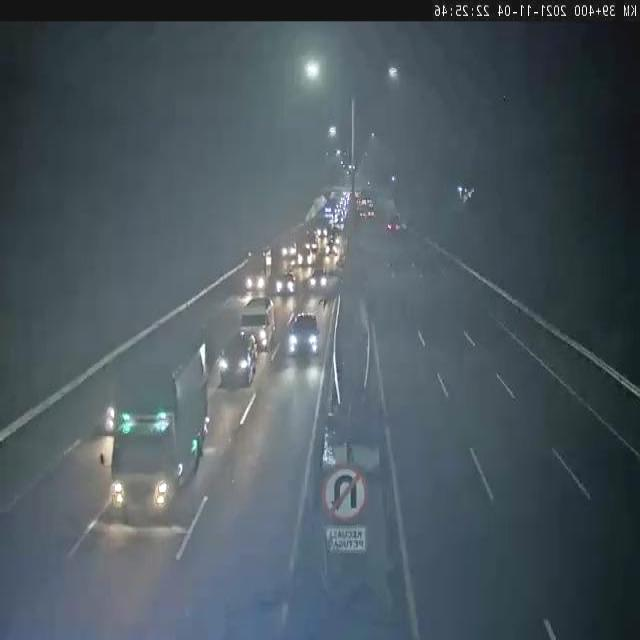Car: (218, 331, 258, 388), (287, 313, 320, 358), (308, 268, 330, 286), (276, 274, 296, 292)
Truck: (97, 336, 208, 518), (244, 248, 272, 293)
Van: (241, 296, 274, 352)
